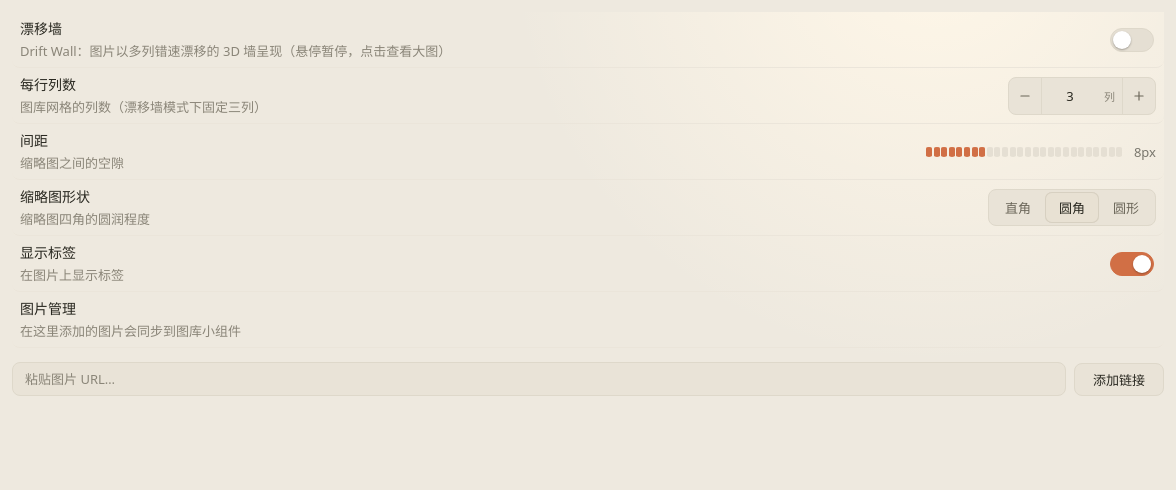
GalleryConfig · addUrl 校验 / 补全 / 去重（P2-4） › 裸域名补全 https:// 入库；归一化后与现有图片按 url 去重（重复添加被拒）
Type "pic.example/x.png" into the field named "添加图片链接" at [539, 379], box [12, 362, 1066, 396]
Then press Enter
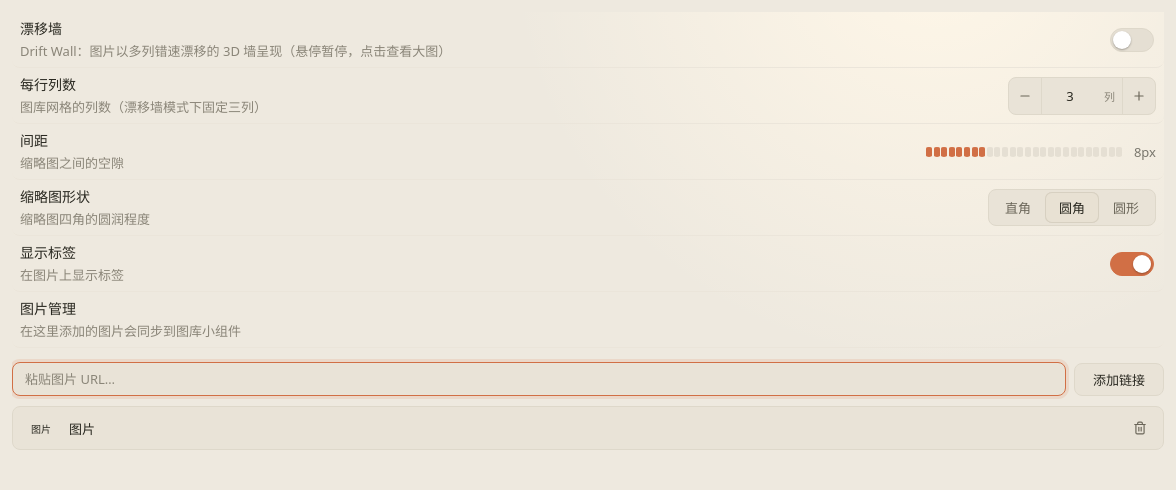
# 换个写法（不带 scheme）再添加同一张：归一化后命中现有 url → 去重拒绝。
Type "pic.example/x.png" into the field named "添加图片链接" at [539, 379], box [12, 362, 1066, 396]
Then press Enter
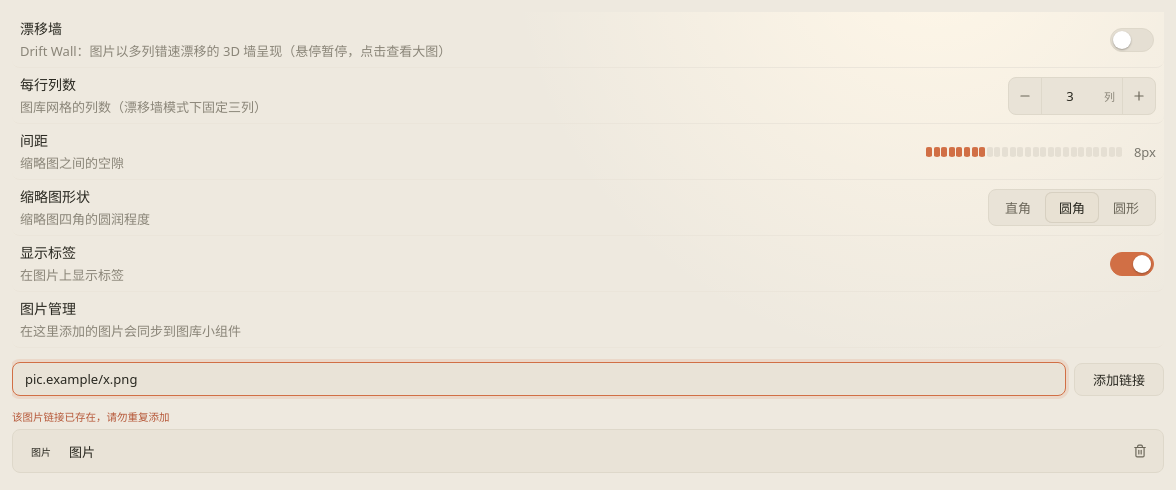
Result: the text "该图片链接已存在，请勿重复添加" is shown at [12, 410, 170, 424]
